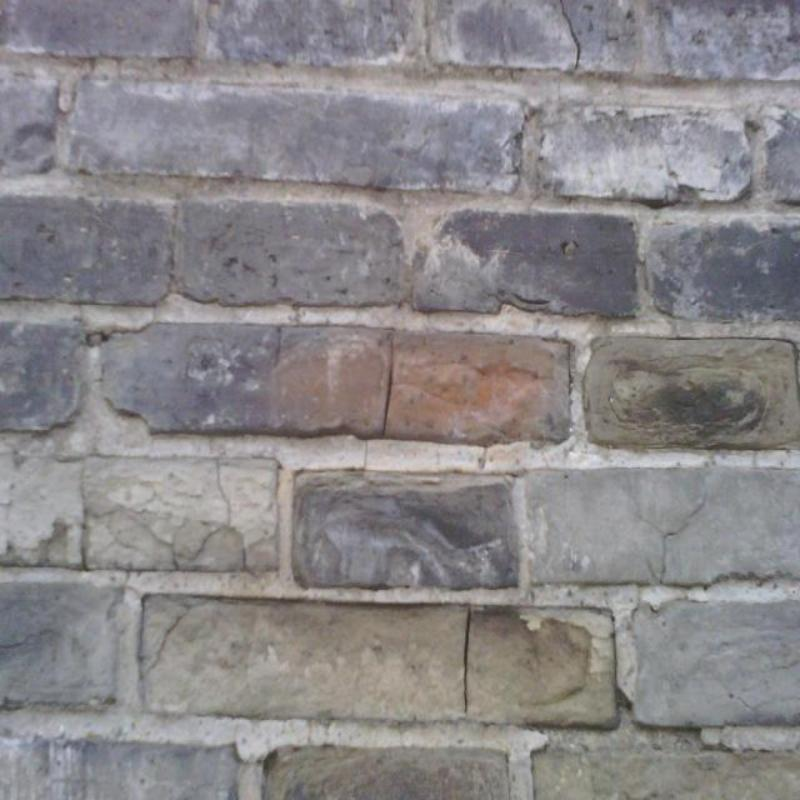pothole: (142, 455, 248, 572), (79, 469, 155, 571), (645, 491, 708, 585), (142, 605, 192, 676), (84, 305, 158, 346), (609, 606, 632, 709), (560, 1, 581, 71), (381, 336, 395, 438), (463, 607, 472, 715), (0, 630, 50, 648), (271, 324, 282, 366), (638, 200, 678, 210), (239, 759, 268, 764)
